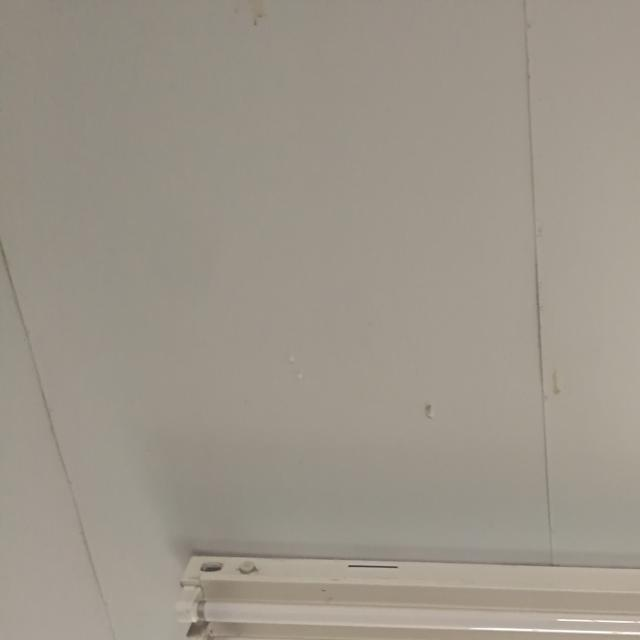fluorescent tube: (161, 520, 640, 640)
